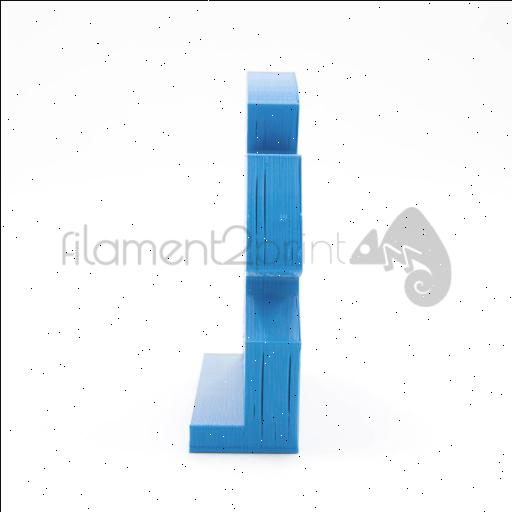cracks: (254, 342, 299, 462), (252, 159, 276, 245)
